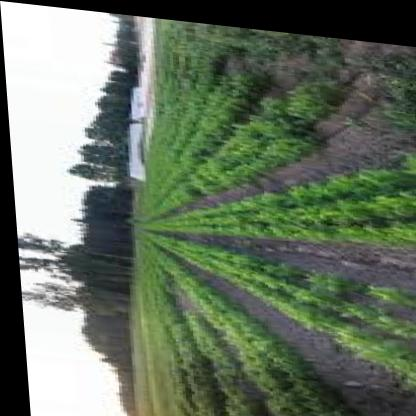Disposable tableware: (9, 1, 416, 416)
